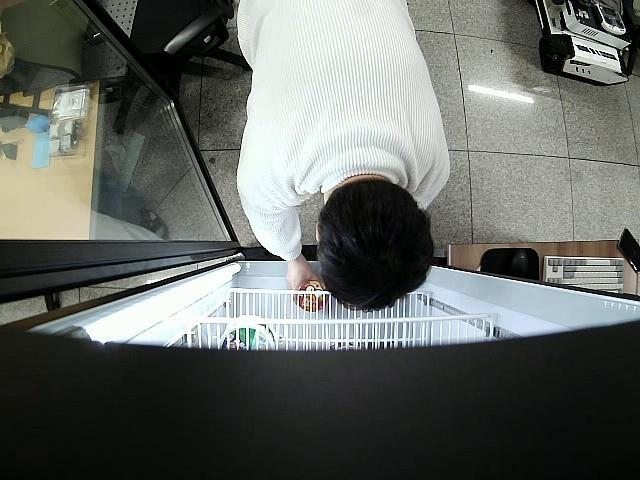06_nuguri_S: (294, 278, 326, 312)
